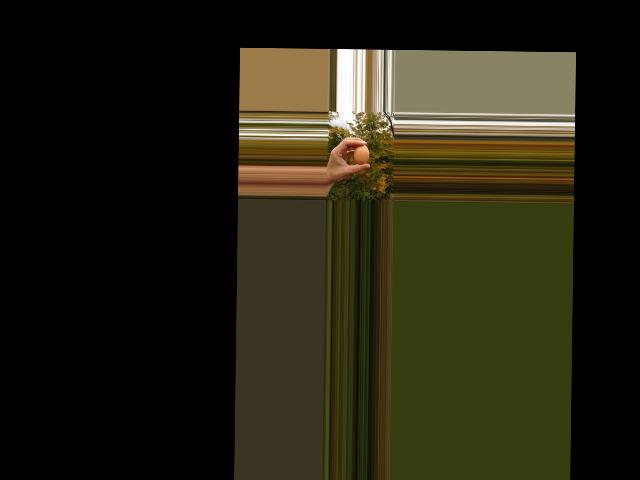egg: (354, 144, 369, 164)
